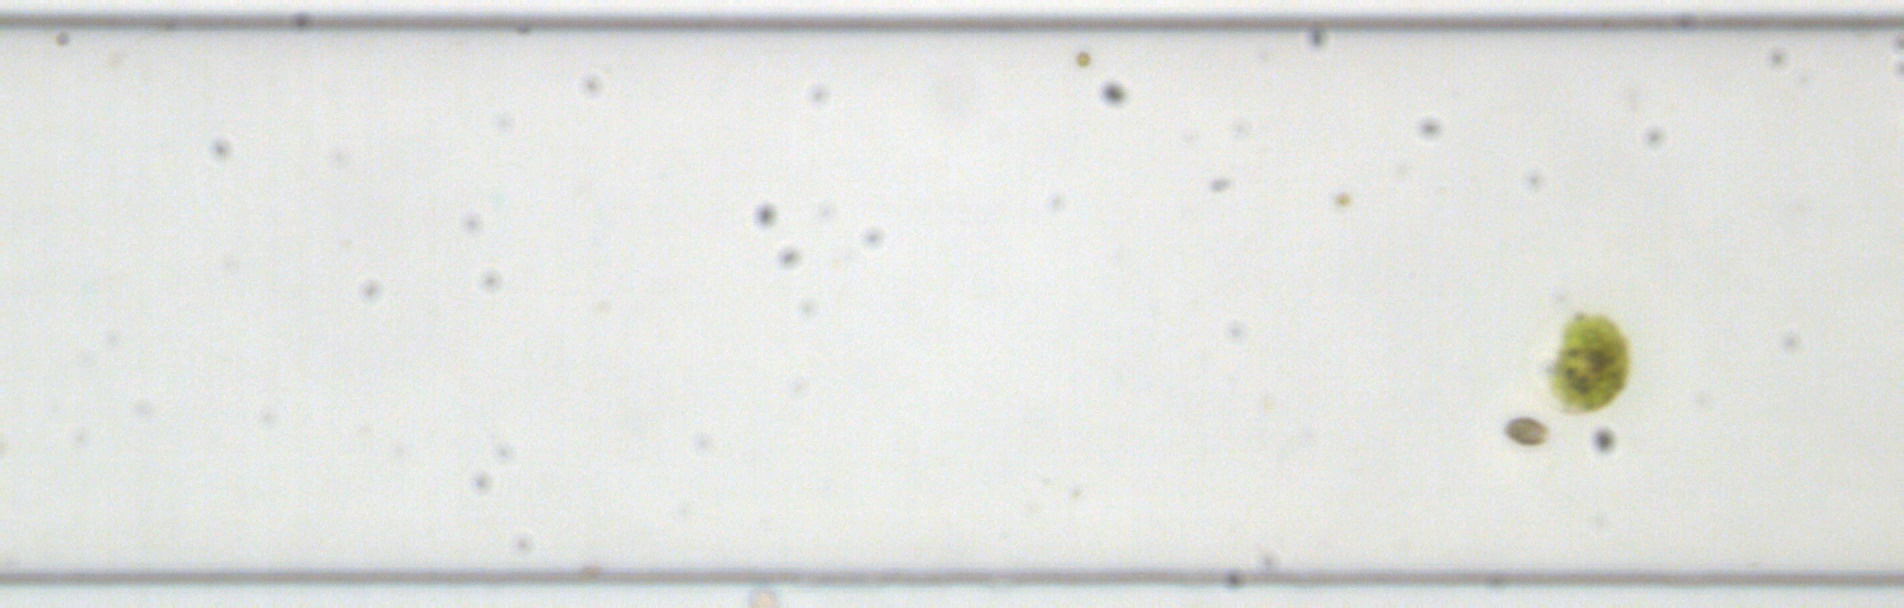Chlorella: (1073, 49, 1095, 70), (1330, 189, 1353, 208)
Dunaliella salina: (1501, 411, 1552, 448)
Haematococcus: (1540, 309, 1630, 414)
